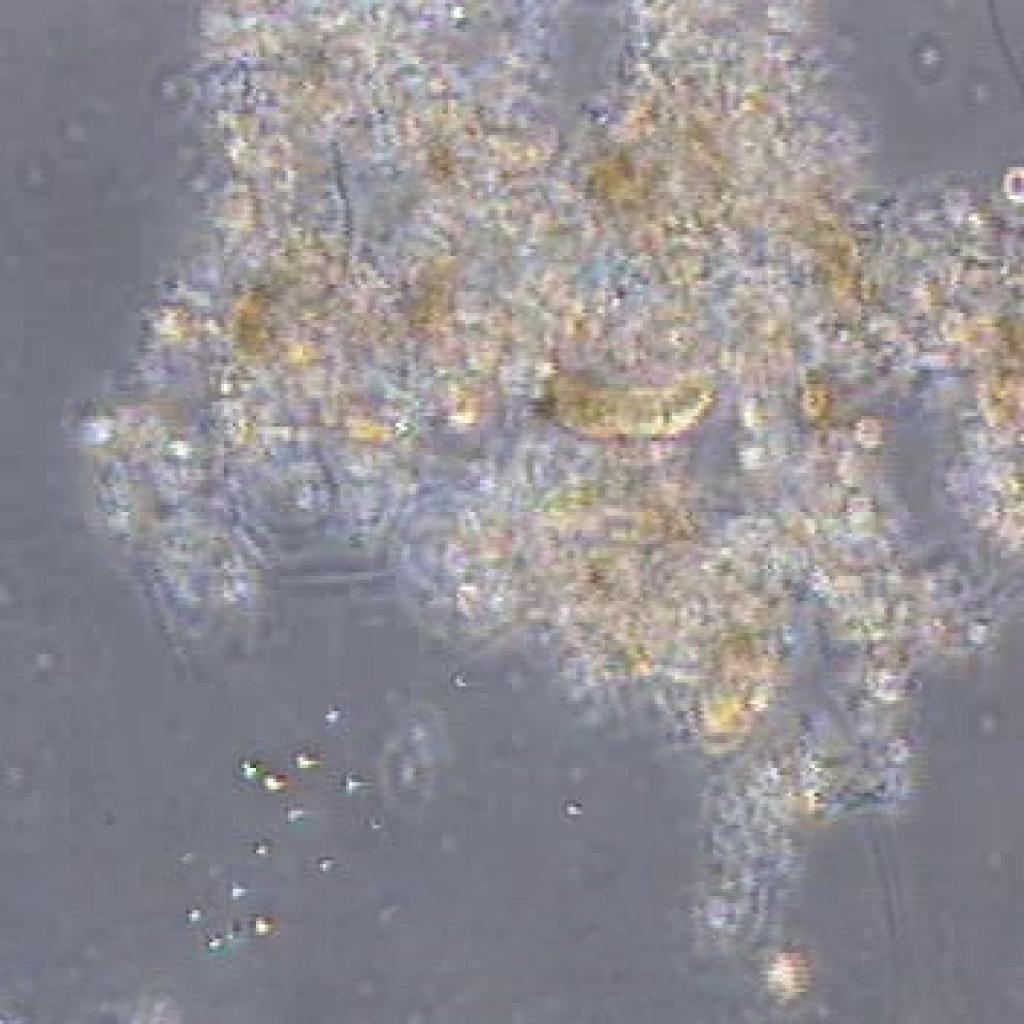Chaetonotus: (519, 362, 735, 444)
